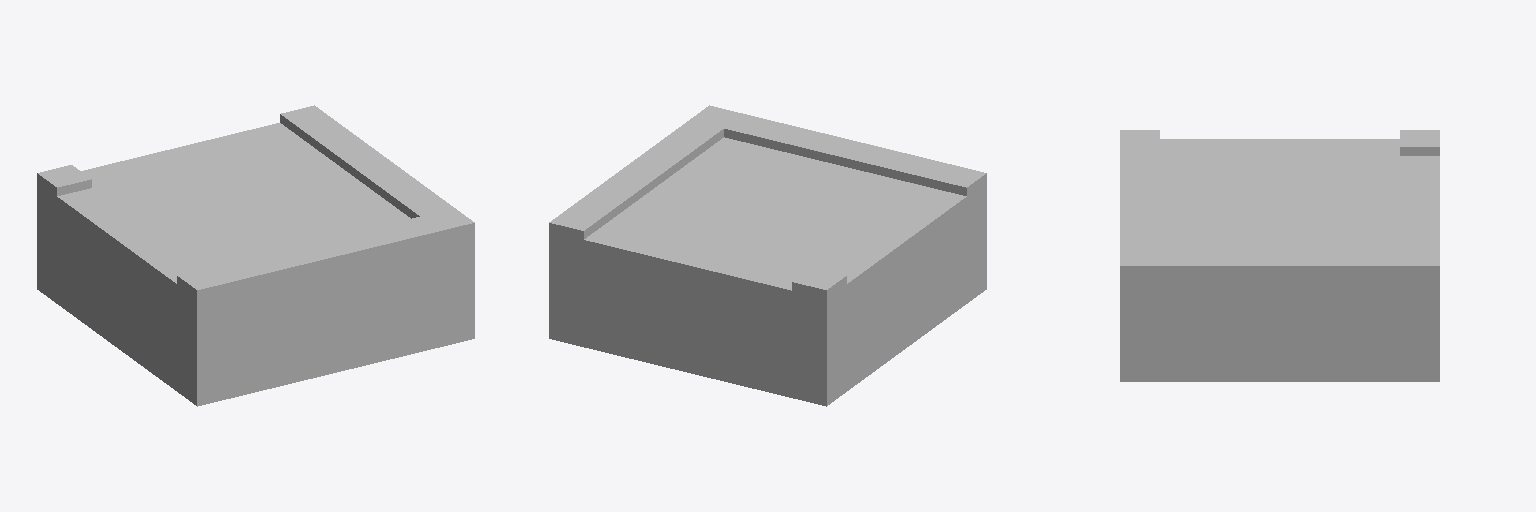
Rendered from towerDefense_094.obj.
3 renders of one model, left to right at view 1: azimuth 30°, elevation 25°; view 2: azimuth 150°, elevation 25°; view 3: azimuth 270°, elevation 25°, orthographic.
Visible parts, largest first — view 1: Mesh1 Group1 Model; view 2: Mesh1 Group1 Model; view 3: Mesh1 Group1 Model.
Part boxes in pixels (bbox=[...]): Mesh1 Group1 Model: bbox=[37, 105, 474, 406]; Mesh1 Group1 Model: bbox=[549, 105, 986, 406]; Mesh1 Group1 Model: bbox=[1120, 130, 1439, 381].
Bounding box in the file's own units: 1 × 0.4 × 1.